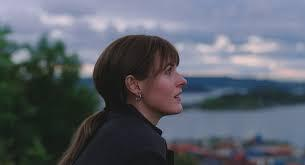Persons: (96, 27, 199, 126)
